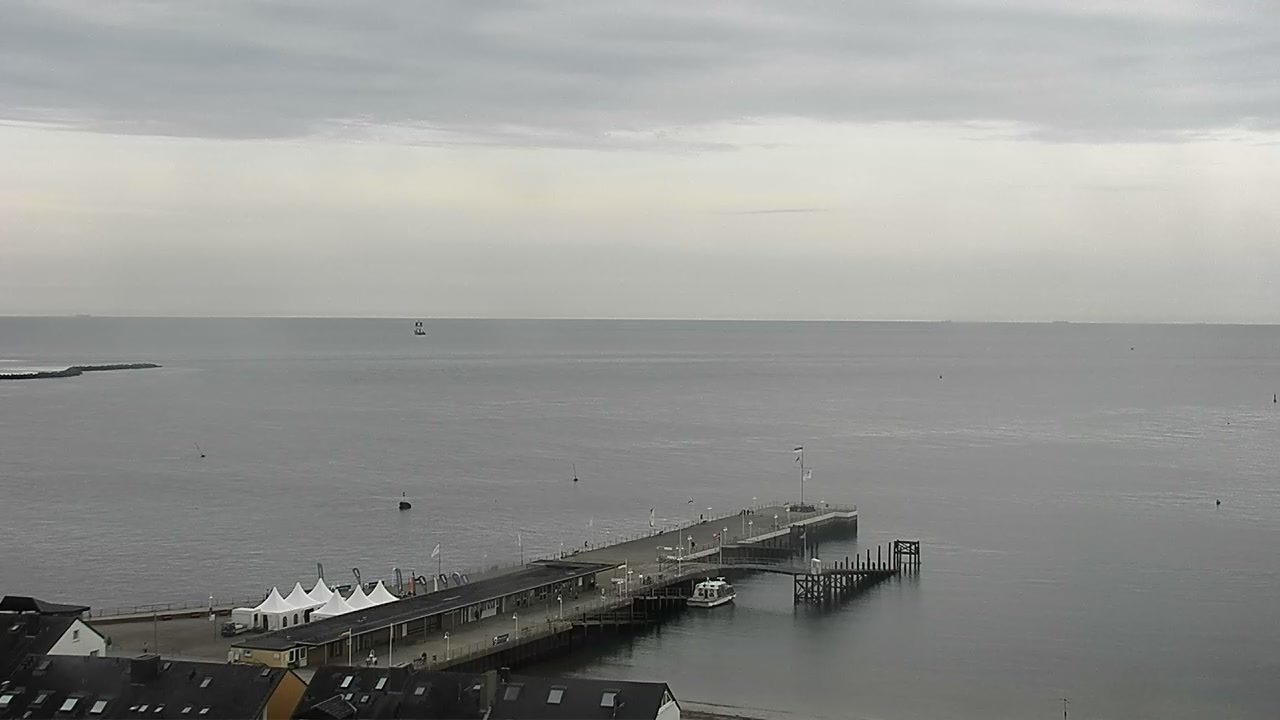human: (420, 651, 427, 664), (690, 540, 696, 551), (746, 508, 750, 516), (751, 509, 755, 515), (744, 509, 747, 515)
land: (220, 620, 248, 637)
sea: (685, 576, 736, 608), (413, 318, 426, 335)
